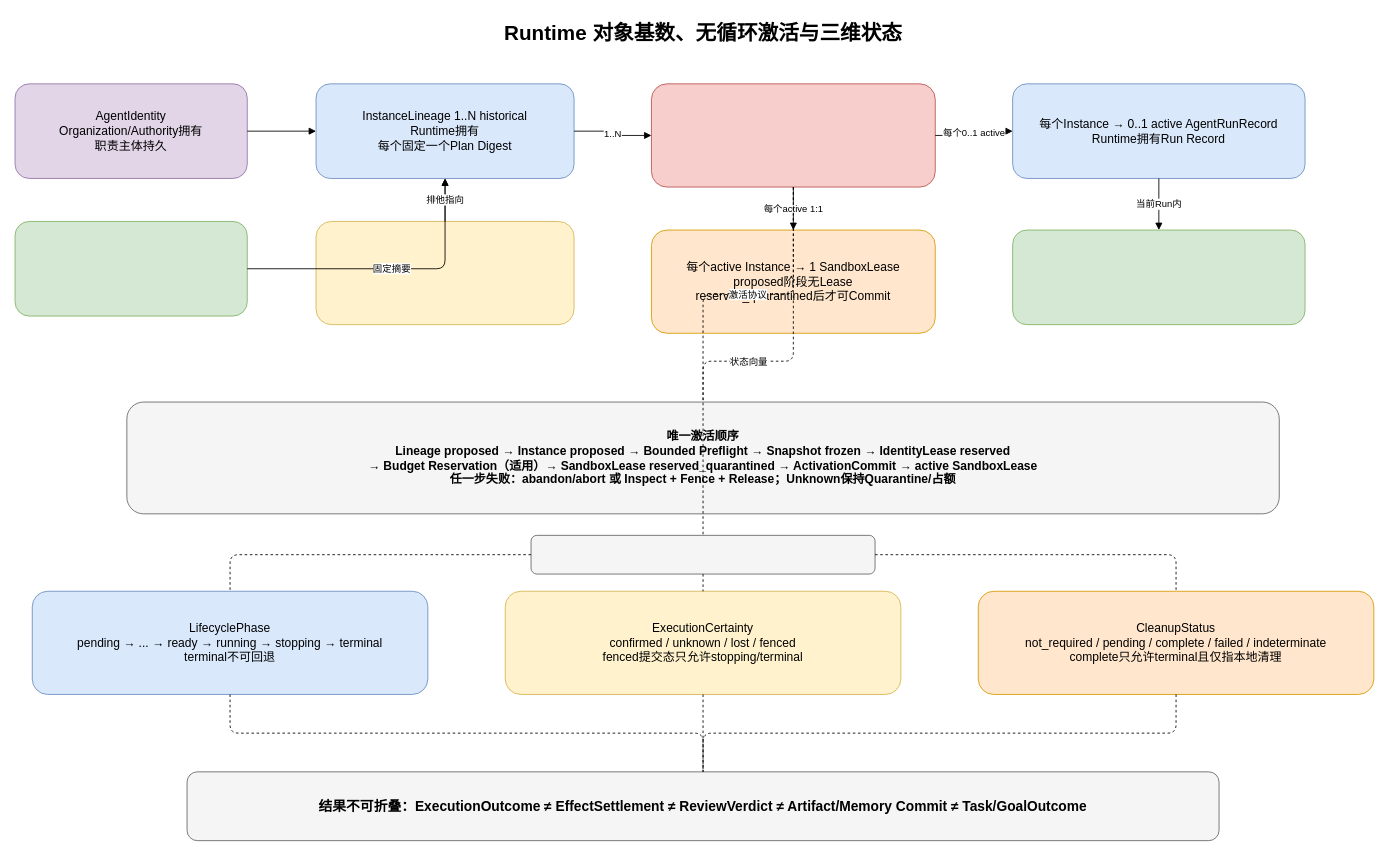
Some shapes in this 1389 by 856 pixel diagram are drawn without their labels. The shapes that lost their labels are listed below. From the top down, each one's box as (x1, y1, x2, y2) in pixels, then its label:
(651, 83, 935, 187): 每个Lineage → 1..N AgentInstance 每次新ID + 更高epoch 历史/当前实例使用同一基数合同
(14, 221, 247, 316): ResolvedAgentPlan Assembler拥有 不可变摘要
(315, 221, 574, 325): IdentityExecutionLease 0..1 reserved/active 唯一线性化事实所有者 V1只指向一个Lineage
(1012, 229, 1305, 325): 每个Run → 0..1 SessionState / Loop Harness拥有；仅当前Run
(530, 534, 875, 574): 每个AgentInstance独立持有一个三维状态向量
